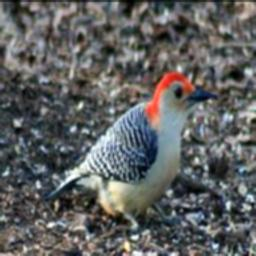Woodpecker: (52, 73, 216, 244)
